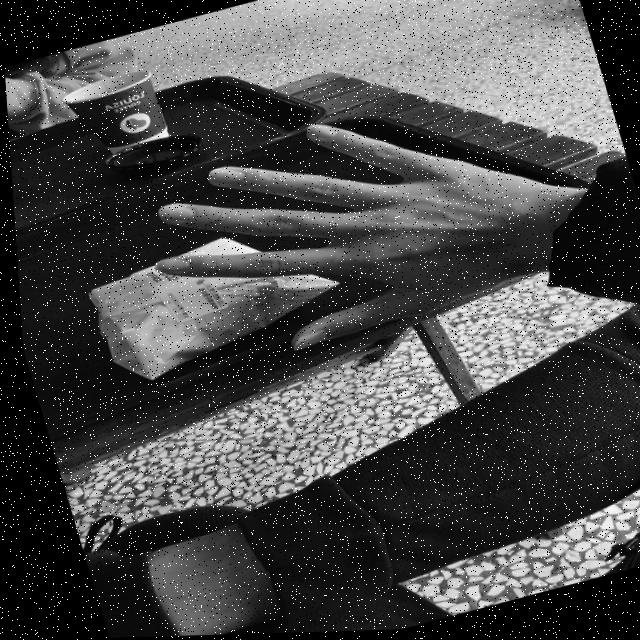hand: (118, 70, 567, 390)
